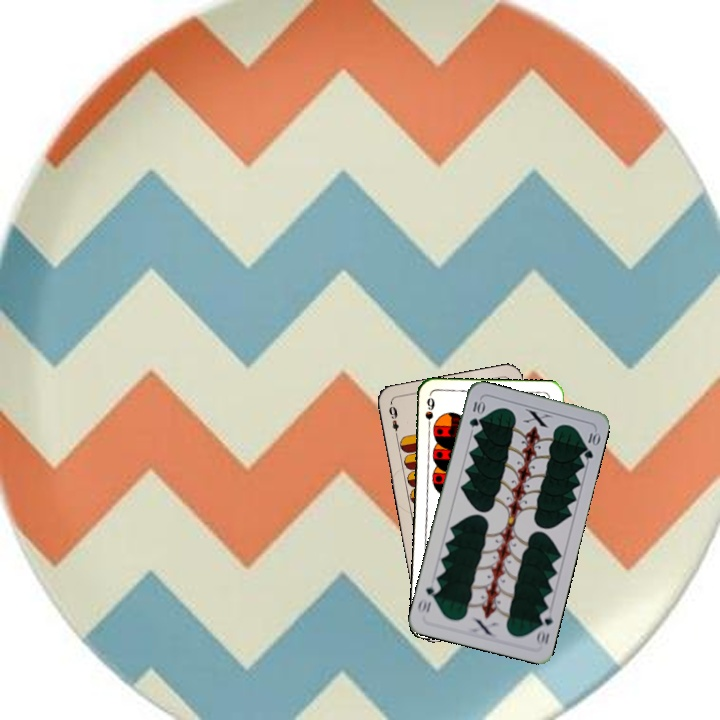E9: (384, 402, 401, 441)
G10: (532, 607, 555, 648), (465, 395, 486, 430)
S9: (421, 393, 437, 433)
